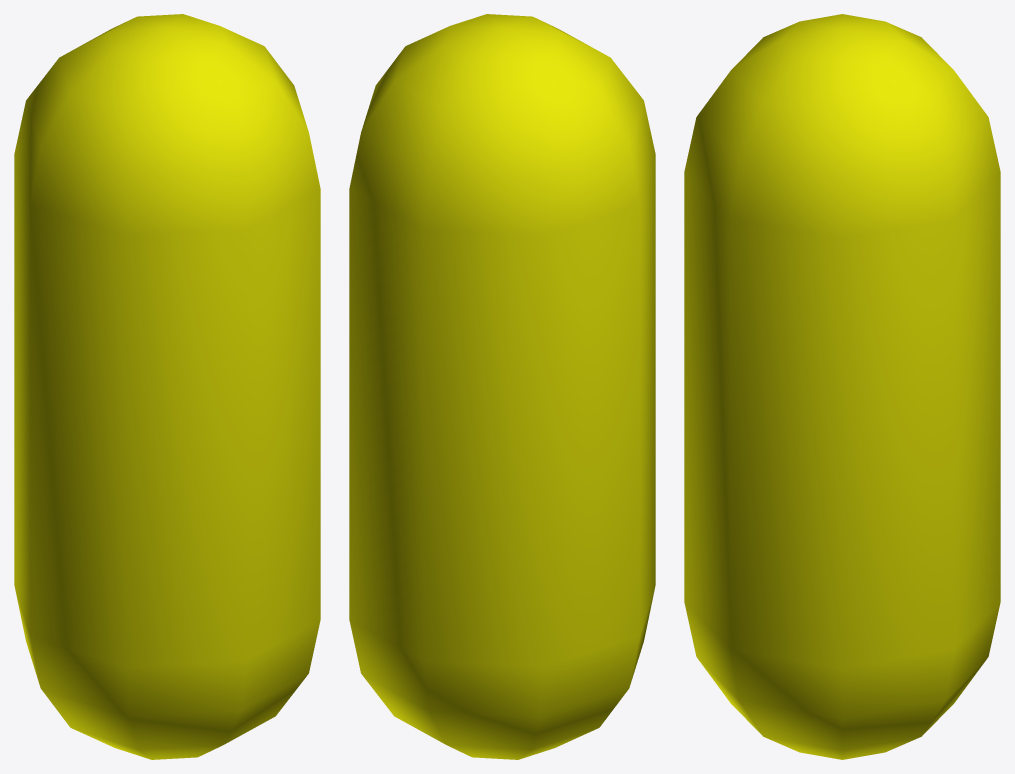
File: piluleJaune.FBX
The picture shows the model from 3 angles, left to right: view 1: azimuth 30°, elevation 25°; view 2: azimuth 150°, elevation 25°; view 3: azimuth 270°, elevation 25°; orthographic projection.
Parts seen in each view (by area): view 1: piluleJaune; view 2: piluleJaune; view 3: piluleJaune.
Boxes of the visible parts, x1,y1,x2,y2 form: piluleJaune: (14, 14, 320, 759); piluleJaune: (349, 14, 655, 759); piluleJaune: (684, 14, 1000, 759).
Bounding box in the file's own units: 7.87 × 19.69 × 7.87.
